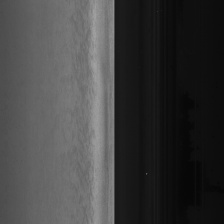silk_spot: (75, 74, 91, 150)
